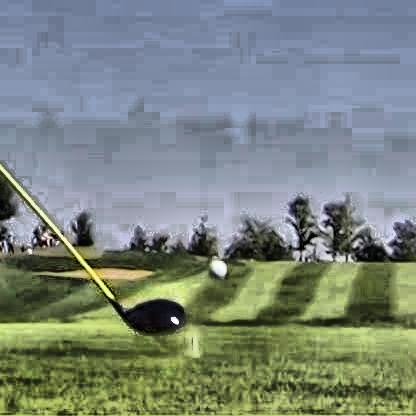golfball: (207, 256, 224, 277)
